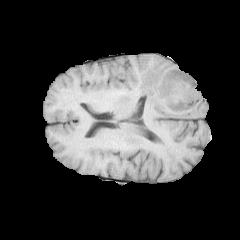glioma: (139, 65, 201, 111)
